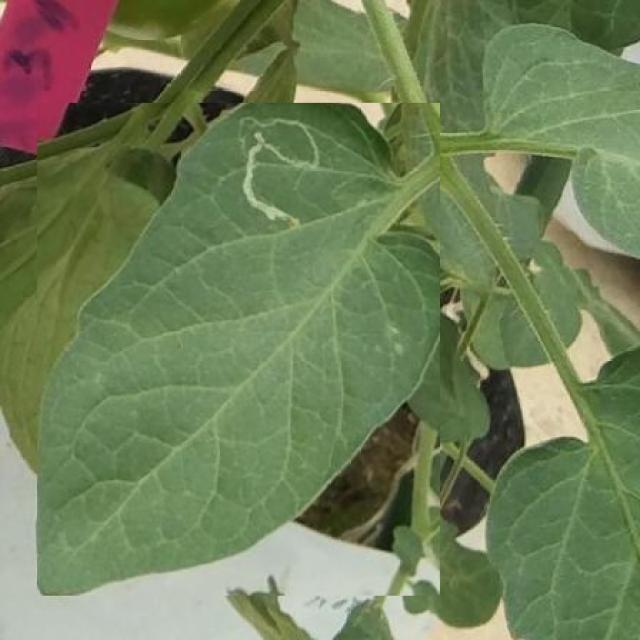Tuta absoluta: (237, 123, 323, 227)
